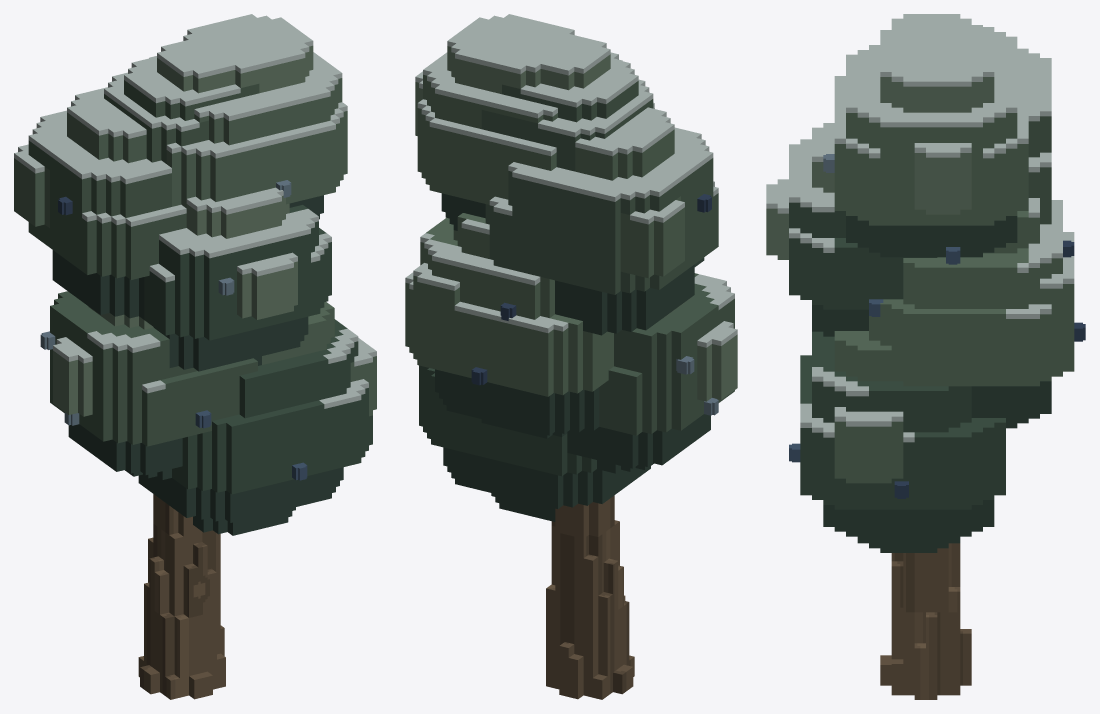
Rendered from juniper_ancient_winter_2.glb.
3 renders of one model, left to right at view 1: azimuth 30°, elevation 25°; view 2: azimuth 150°, elevation 25°; view 3: azimuth 270°, elevation 25°, orthographic. The views are drawn at different scales.
Parts seen in each view (by area): view 1: VoxelVisual; view 2: VoxelVisual; view 3: VoxelVisual.
Part boxes in pixels (x1,y1,x2,y2): VoxelVisual: (14, 14, 376, 699); VoxelVisual: (405, 14, 737, 699); VoxelVisual: (766, 14, 1085, 699).
Size of what is drawn, in the model's own units: 7.75 by 16 by 7.
